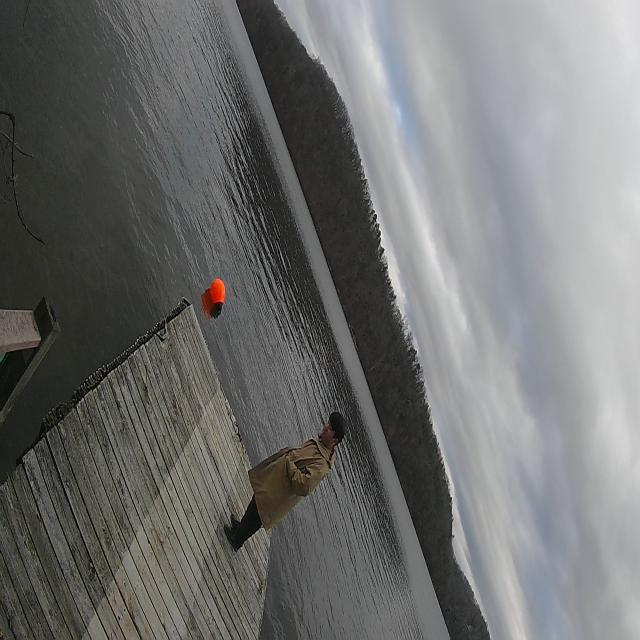Buoy: (207, 274, 228, 319)
